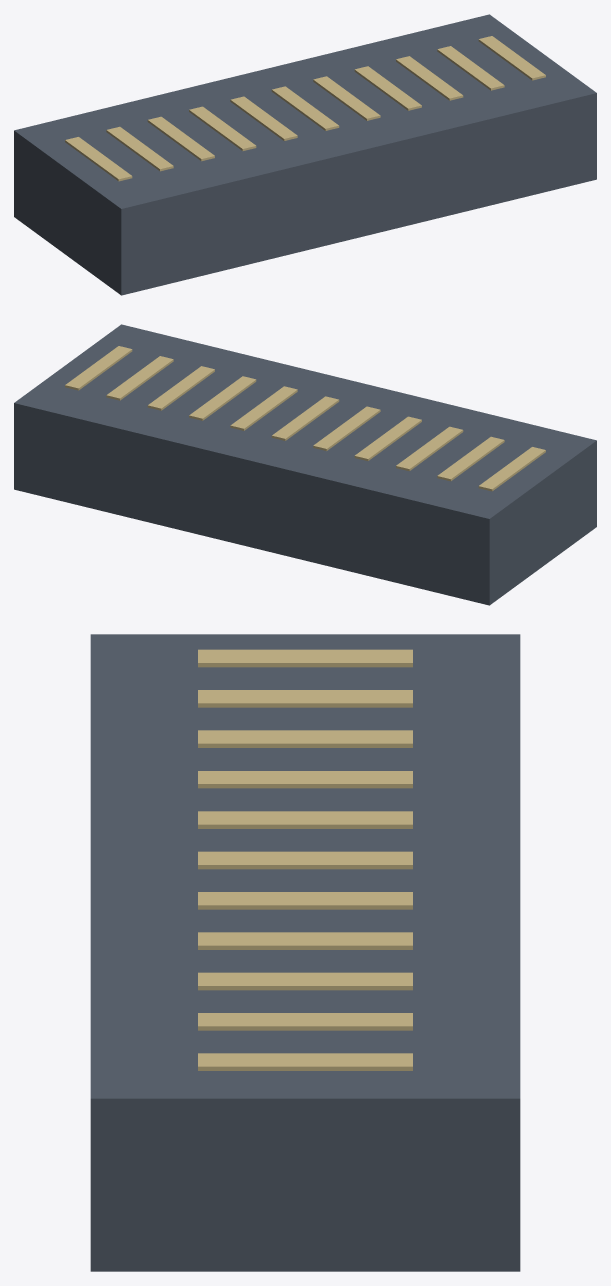
Rendered from 196_L113_RedundantPort_1.glb.
The picture shows the model from 3 angles, top to bottom: view 1: azimuth 30°, elevation 25°; view 2: azimuth 150°, elevation 25°; view 3: azimuth 270°, elevation 25°; orthographic projection. The views are drawn at different scales.
Visible parts, largest first — view 1: part0000__PSMAT__Connector_Polymer, part0006__PSMAT__Gold_ENIG, part0002__PSMAT__Gold_ENIG, part0003__PSMAT__Gold_ENIG, part0008__PSMAT__Gold_ENIG, part0004__PSMAT__Gold_ENIG, part0005__PSMAT__Gold_ENIG, part0007__PSMAT__Gold_ENIG, part0010__PSMAT__Gold_ENIG, part0001__PSMAT__Gold_ENIG, part0009__PSMAT__Gold_ENIG, part0011__PSMAT__Gold_ENIG; view 2: part0000__PSMAT__Connector_Polymer, part0006__PSMAT__Gold_ENIG, part0002__PSMAT__Gold_ENIG, part0003__PSMAT__Gold_ENIG, part0008__PSMAT__Gold_ENIG, part0004__PSMAT__Gold_ENIG, part0005__PSMAT__Gold_ENIG, part0007__PSMAT__Gold_ENIG, part0010__PSMAT__Gold_ENIG, part0001__PSMAT__Gold_ENIG, part0009__PSMAT__Gold_ENIG, part0011__PSMAT__Gold_ENIG; view 3: part0000__PSMAT__Connector_Polymer, part0001__PSMAT__Gold_ENIG, part0006__PSMAT__Gold_ENIG, part0009__PSMAT__Gold_ENIG, part0002__PSMAT__Gold_ENIG, part0003__PSMAT__Gold_ENIG, part0004__PSMAT__Gold_ENIG, part0005__PSMAT__Gold_ENIG, part0007__PSMAT__Gold_ENIG, part0008__PSMAT__Gold_ENIG, part0010__PSMAT__Gold_ENIG, part0011__PSMAT__Gold_ENIG.
Boxes of the visible parts, x1,y1,x2,y2 form: part0000__PSMAT__Connector_Polymer: (14, 14, 596, 295); part0006__PSMAT__Gold_ENIG: (271, 86, 339, 130); part0002__PSMAT__Gold_ENIG: (106, 126, 173, 171); part0003__PSMAT__Gold_ENIG: (147, 116, 214, 161); part0008__PSMAT__Gold_ENIG: (354, 66, 421, 110); part0004__PSMAT__Gold_ENIG: (189, 106, 256, 150); part0005__PSMAT__Gold_ENIG: (230, 96, 297, 140); part0007__PSMAT__Gold_ENIG: (313, 76, 380, 120); part0010__PSMAT__Gold_ENIG: (437, 46, 504, 90); part0001__PSMAT__Gold_ENIG: (65, 137, 132, 181); part0009__PSMAT__Gold_ENIG: (396, 56, 463, 100); part0011__PSMAT__Gold_ENIG: (478, 36, 545, 80); part0000__PSMAT__Connector_Polymer: (14, 324, 596, 605); part0006__PSMAT__Gold_ENIG: (271, 396, 339, 440); part0002__PSMAT__Gold_ENIG: (437, 436, 504, 481); part0003__PSMAT__Gold_ENIG: (396, 426, 463, 471); part0008__PSMAT__Gold_ENIG: (189, 376, 256, 420); part0004__PSMAT__Gold_ENIG: (354, 416, 421, 460); part0005__PSMAT__Gold_ENIG: (313, 406, 380, 450); part0007__PSMAT__Gold_ENIG: (230, 386, 297, 430); part0010__PSMAT__Gold_ENIG: (106, 356, 173, 400); part0001__PSMAT__Gold_ENIG: (478, 447, 545, 491); part0009__PSMAT__Gold_ENIG: (147, 366, 214, 410); part0011__PSMAT__Gold_ENIG: (65, 346, 132, 390); part0000__PSMAT__Connector_Polymer: (90, 634, 520, 1271); part0001__PSMAT__Gold_ENIG: (198, 649, 412, 667); part0006__PSMAT__Gold_ENIG: (198, 851, 412, 869); part0009__PSMAT__Gold_ENIG: (198, 972, 412, 990); part0002__PSMAT__Gold_ENIG: (198, 690, 412, 707); part0003__PSMAT__Gold_ENIG: (198, 730, 412, 747); part0004__PSMAT__Gold_ENIG: (198, 771, 412, 788); part0005__PSMAT__Gold_ENIG: (198, 811, 412, 828); part0007__PSMAT__Gold_ENIG: (198, 892, 412, 909); part0008__PSMAT__Gold_ENIG: (198, 932, 412, 949); part0010__PSMAT__Gold_ENIG: (198, 1013, 412, 1030); part0011__PSMAT__Gold_ENIG: (198, 1053, 412, 1070).
Bounding box in the file's own units: 0.023 × 0.00419 × 0.009.
